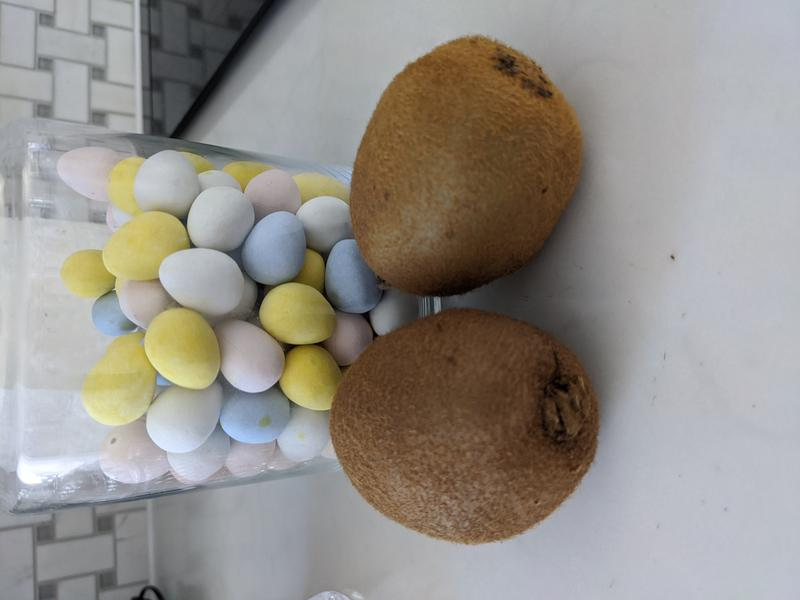kiwi: (330, 307, 600, 546), (349, 35, 585, 298)
